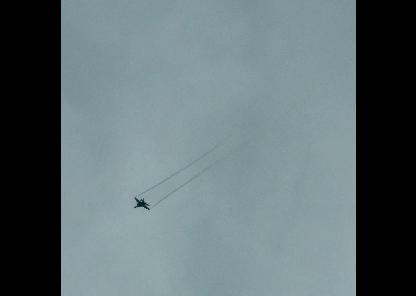F15: (132, 198, 150, 210)
